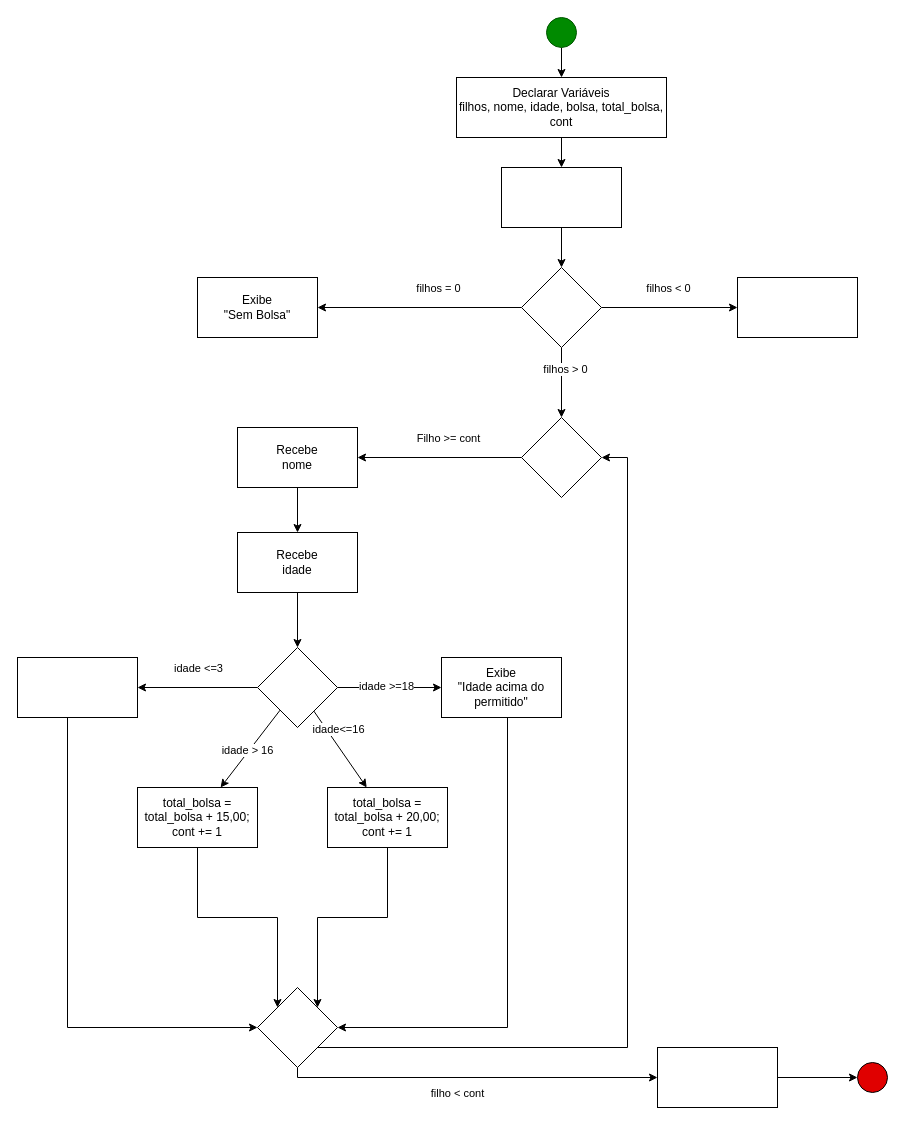
Some shapes in this 905 by 1125 pixel diagram are drawn without their labels. The centre of each missing label's shape, as x and y in pixels:
Exibe "Valor invalido": point (797, 307)
Exibe total_bolsa: point (717, 1077)
Recebe filhos: point (561, 197)
total_bolsa = total_bolsa + 25,00; cont += 1: point (77, 687)
